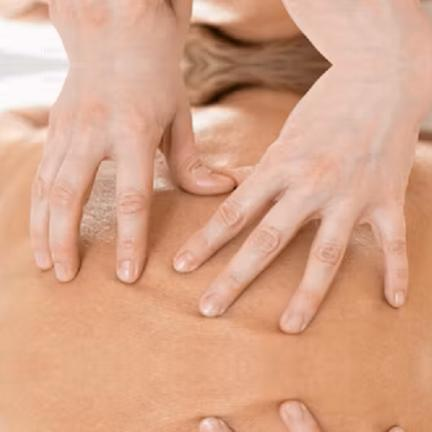Nail: (201, 292, 222, 316), (174, 251, 196, 273), (118, 257, 135, 281), (285, 313, 304, 331), (285, 402, 304, 420), (211, 171, 235, 185), (201, 417, 222, 432), (35, 251, 51, 269), (54, 262, 67, 282), (395, 288, 405, 308), (395, 426, 405, 432)
